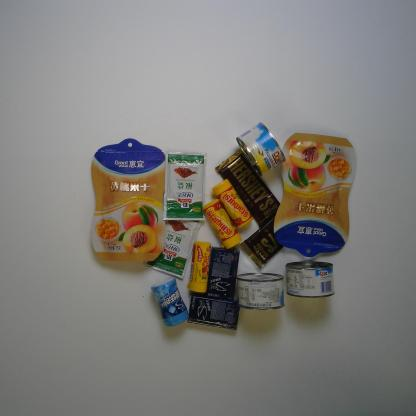Candy: (211, 178, 254, 230), (202, 198, 242, 249), (186, 240, 212, 293)
Canned Food: (236, 122, 286, 177), (285, 260, 335, 298), (236, 272, 285, 310)
Chocolate: (214, 150, 281, 228), (239, 206, 304, 269)
Dried Fruit: (273, 132, 357, 258), (90, 138, 166, 262)
Gum: (150, 276, 190, 327), (187, 294, 240, 330), (205, 246, 240, 300)
Seasoner: (141, 220, 202, 280), (163, 150, 207, 221)
